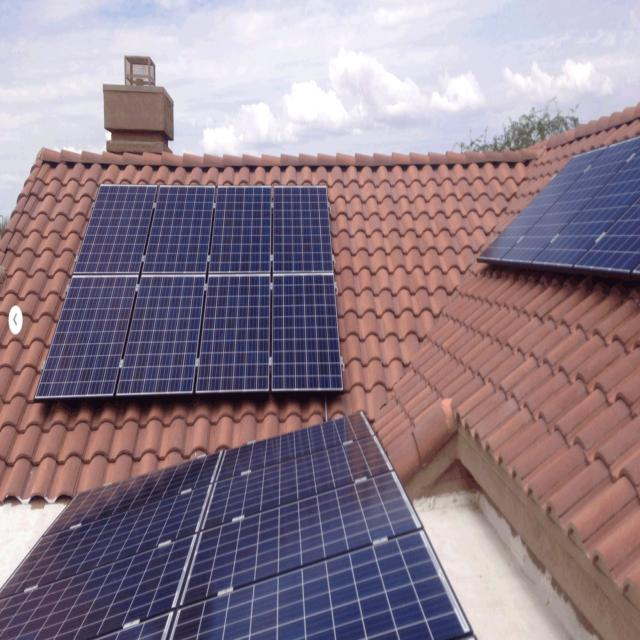clean-solar-panel: (1, 413, 472, 640), (35, 184, 342, 401), (479, 138, 640, 278)
